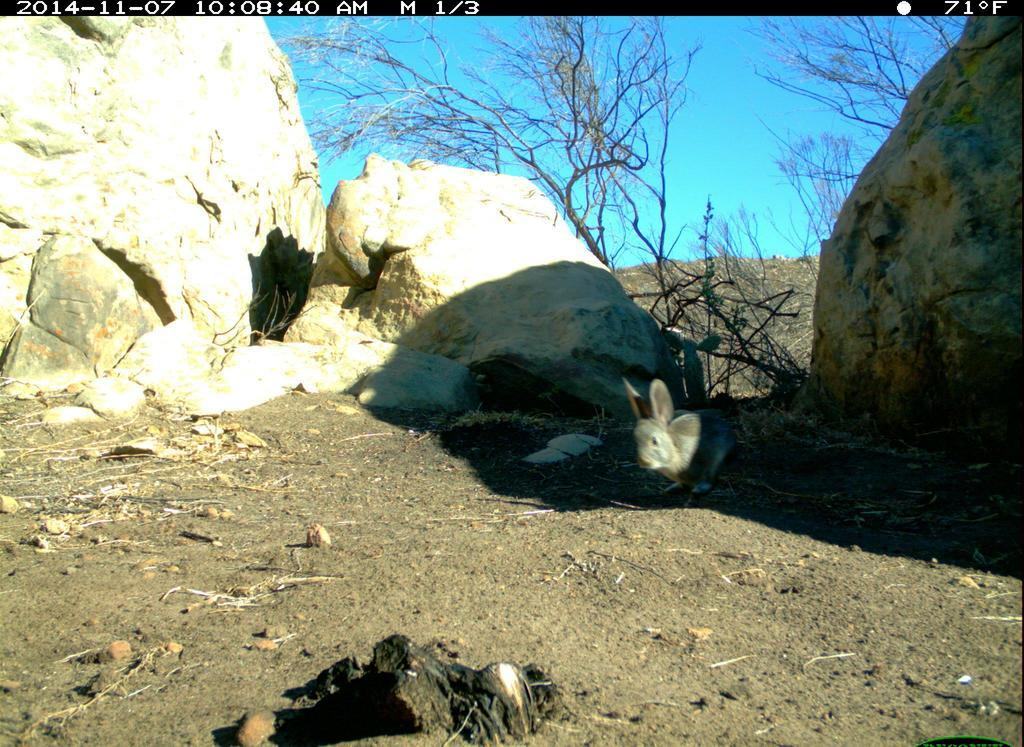rabbit: (611, 373, 760, 505)
